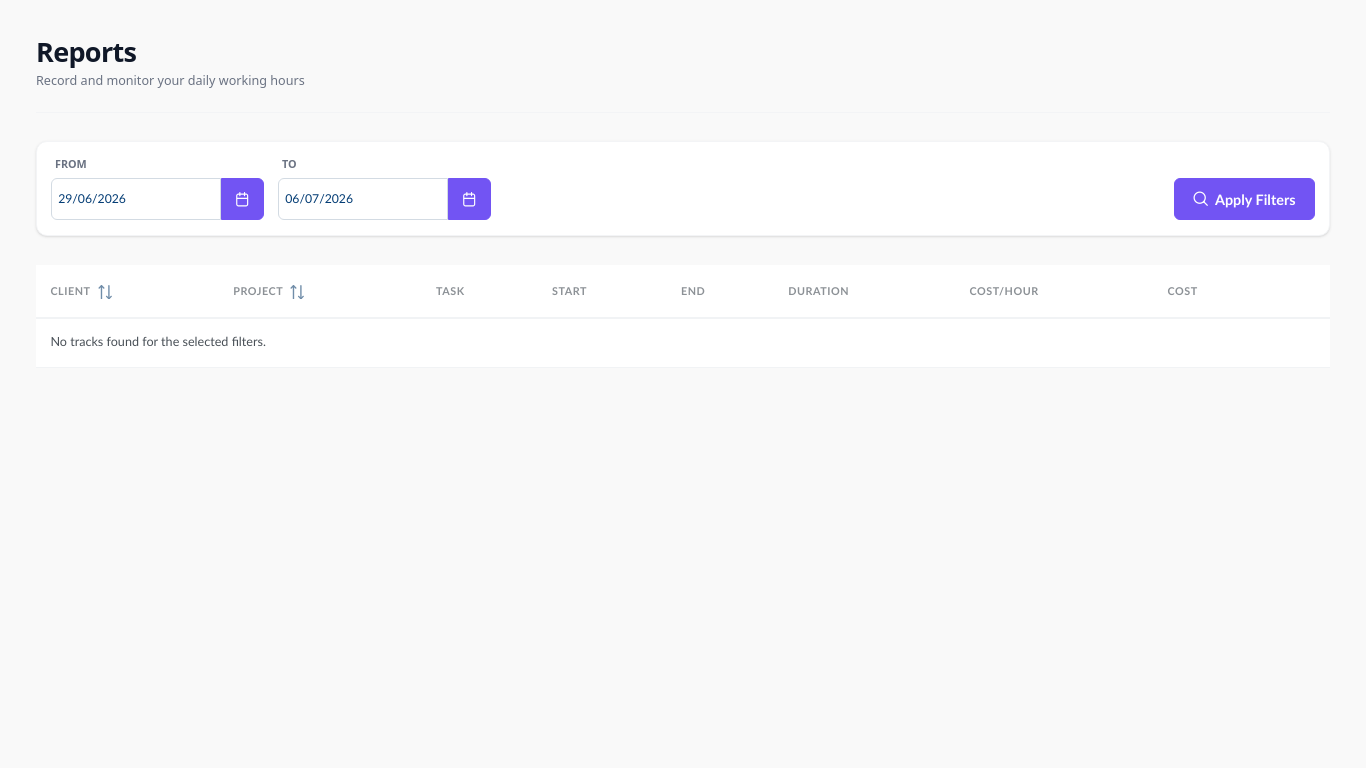
Test case: TracksList › developer sees own tracks after applying filters
This screenshot has width=1366, height=768.
Click the button "Apply Filters" at (1244, 199), box [1174,178,1315,220]
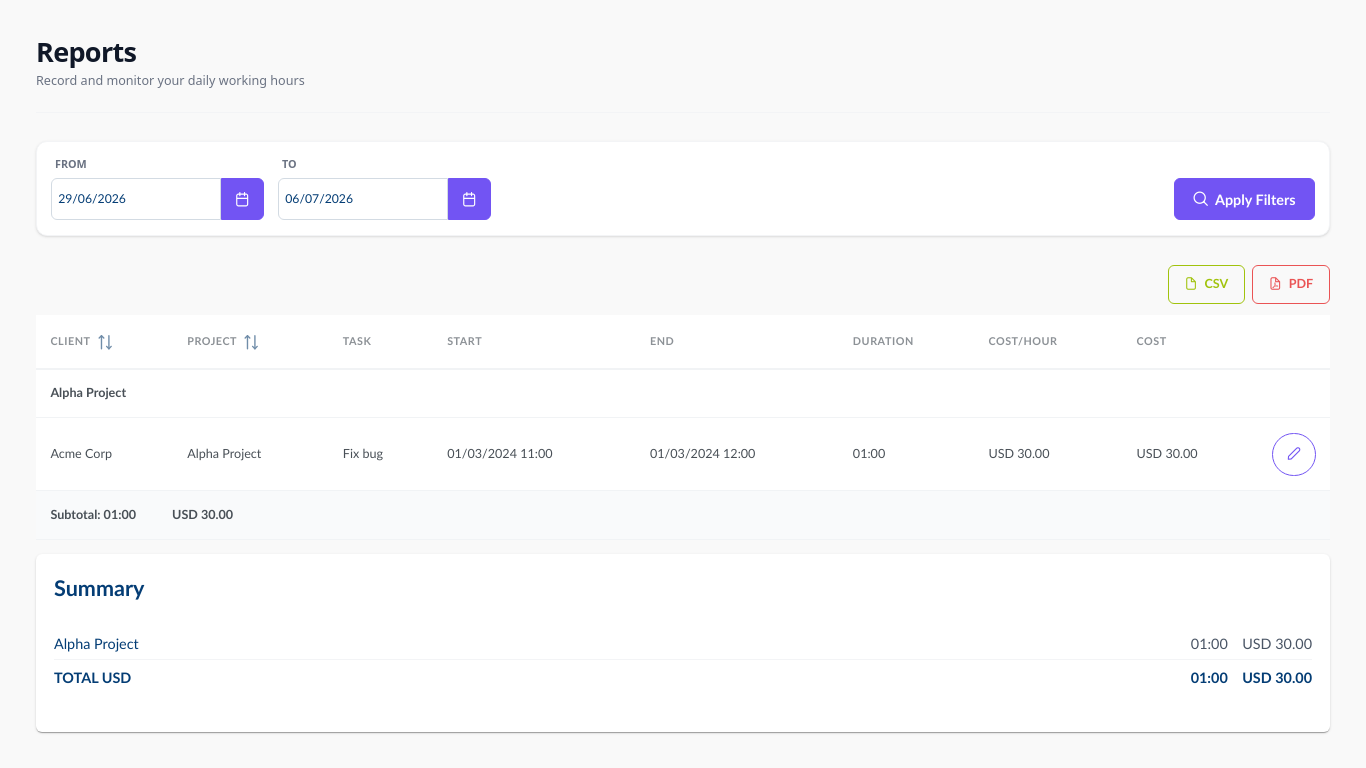
Check: the text "Fix bug" is shown, box [328,418,433,491]
